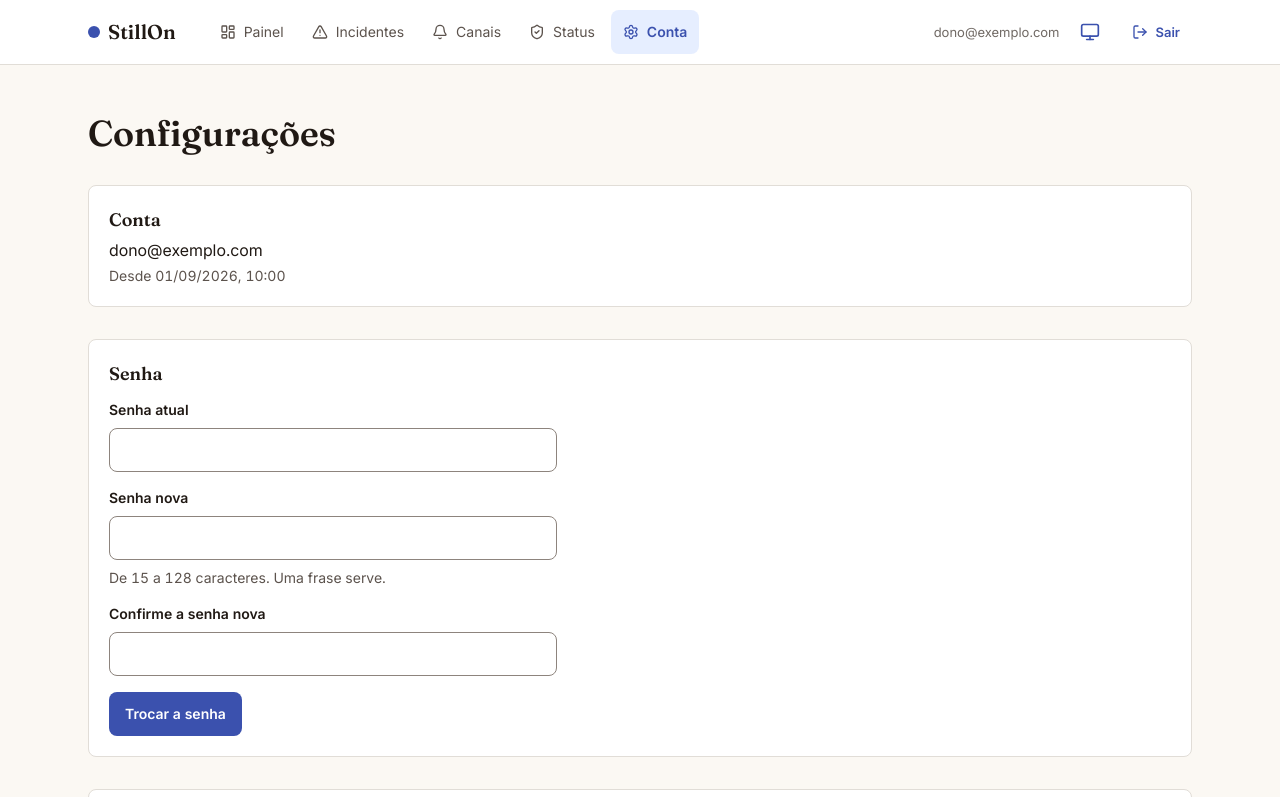
it: senha › se o /me relido falha, a troca não sai e o erro aparece
Type "uma senha bem comprida" into the password field labelled "Senha atual". click: [333, 450]
box: [109,428,557,472]
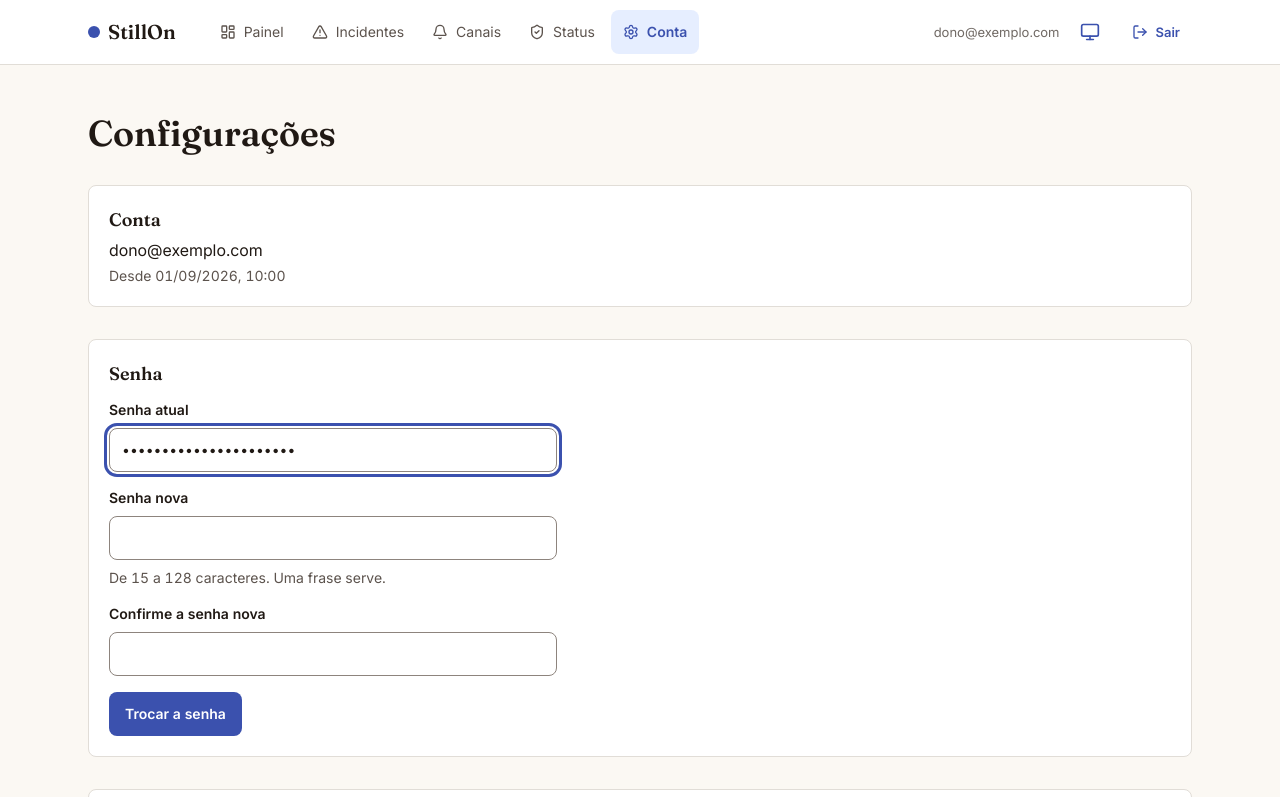
Type "outra senha bem comprida" into the password field labelled "Senha nova". click: [333, 538]
box: [109,516,557,560]
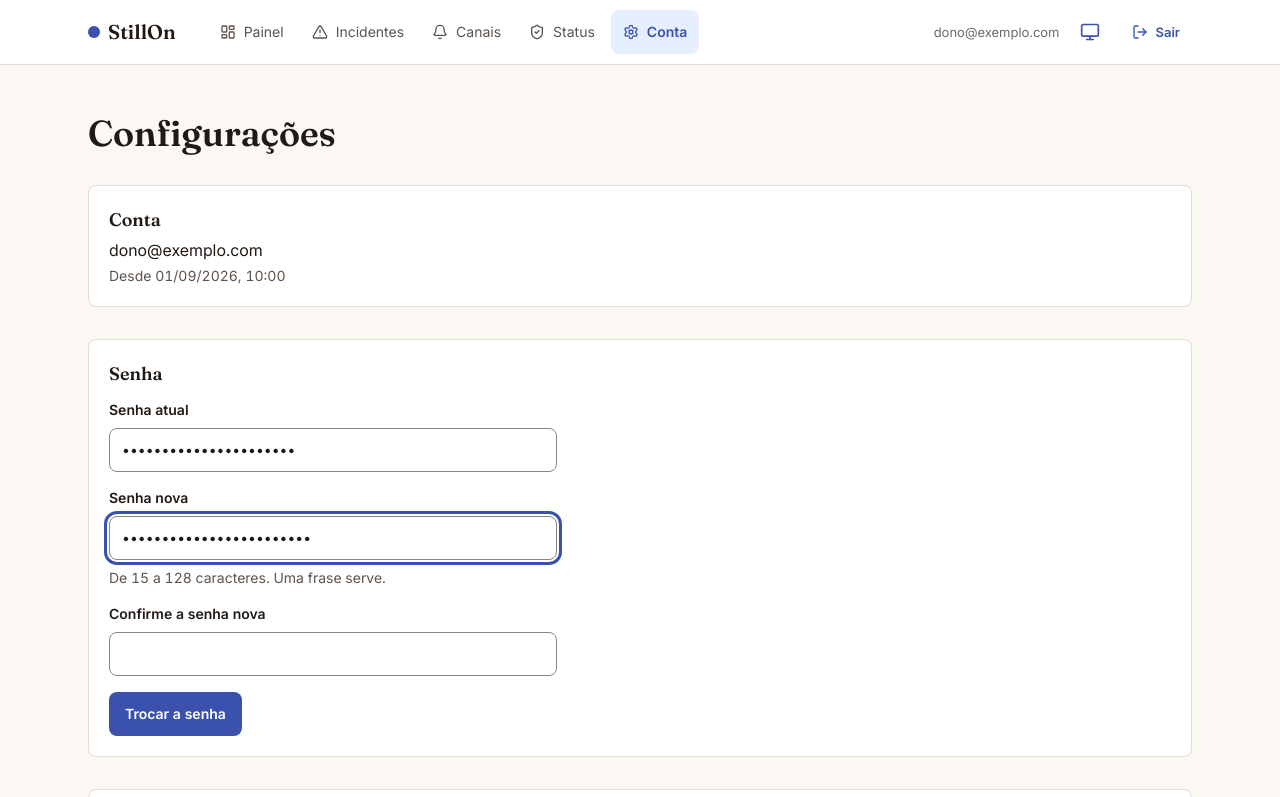
Type "outra senha bem comprida" into the password field labelled "Confirme a senha nova". click: [333, 654]
box: [109,632,557,676]
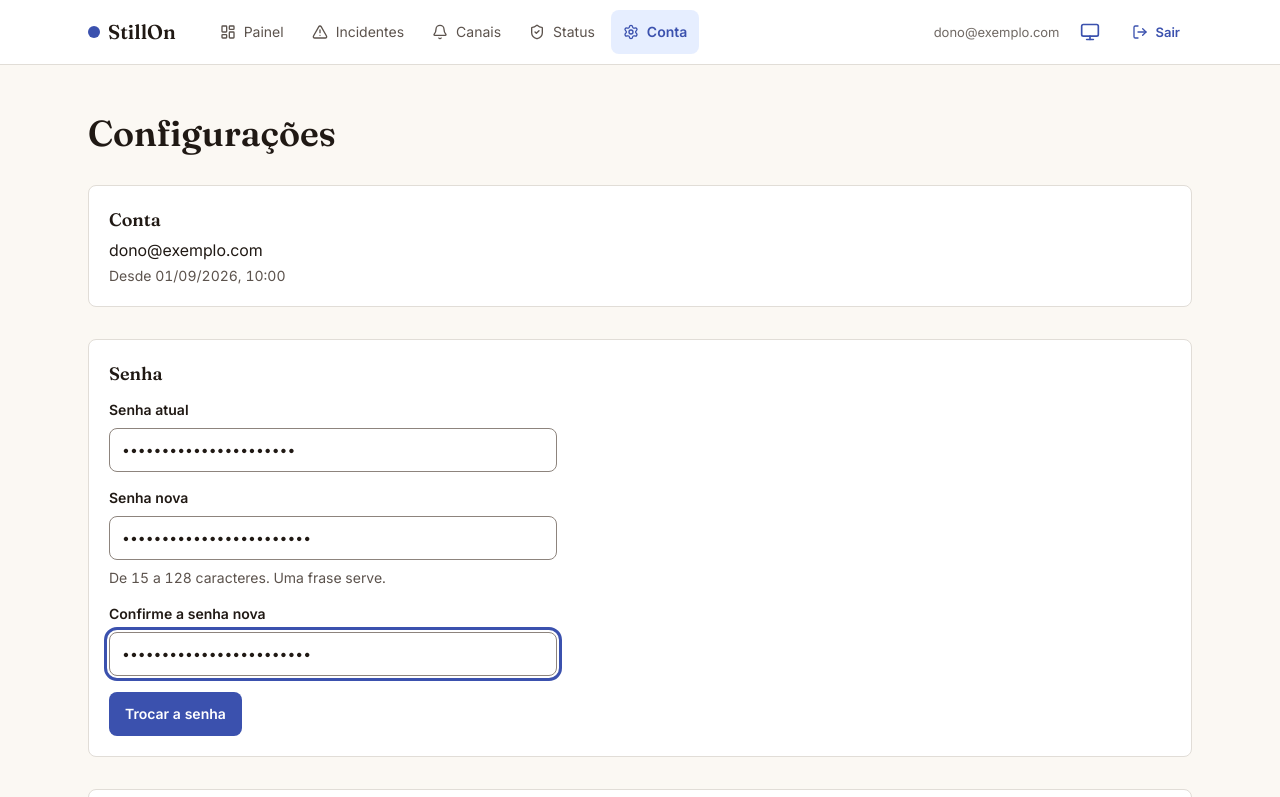
Click the button "Trocar a senha". click: [175, 714]
box: [109,692,242,736]
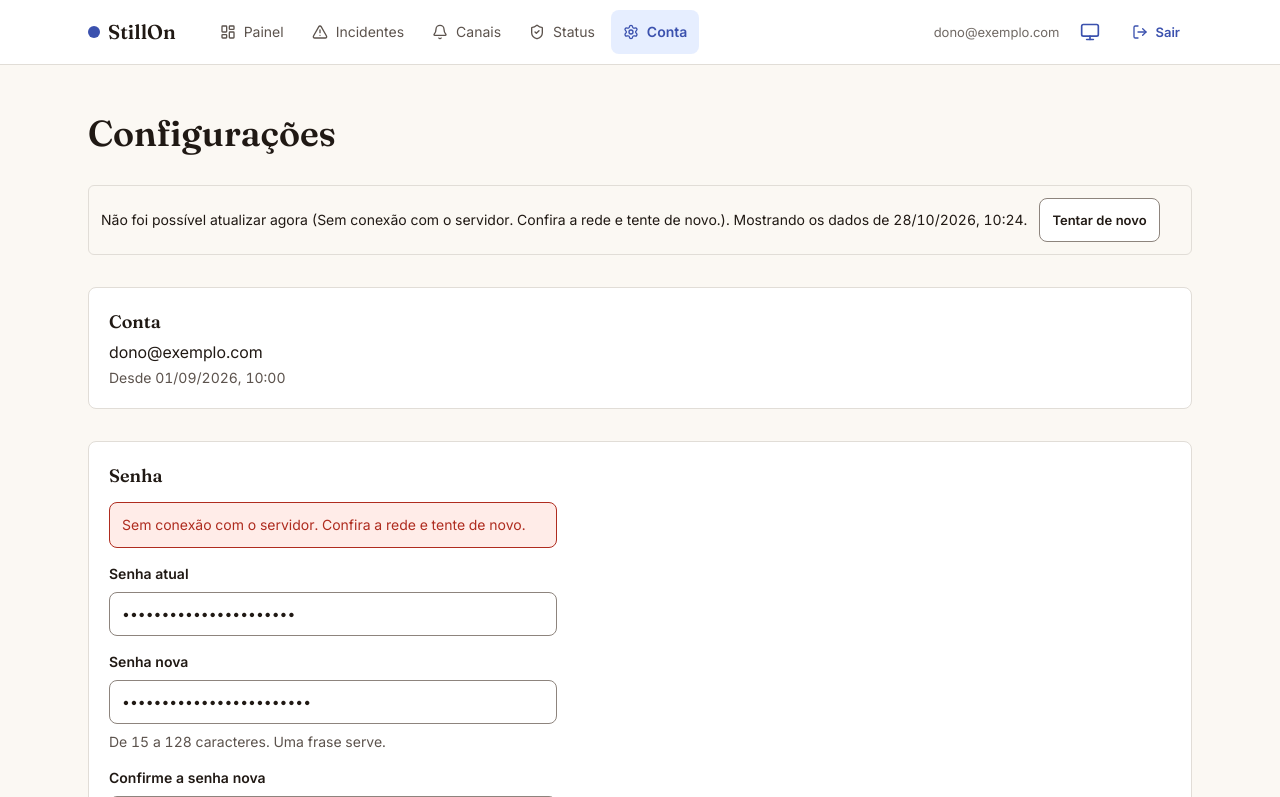
Result: the message shows "Sem conexão com o servidor." at [122,516,525,533]
